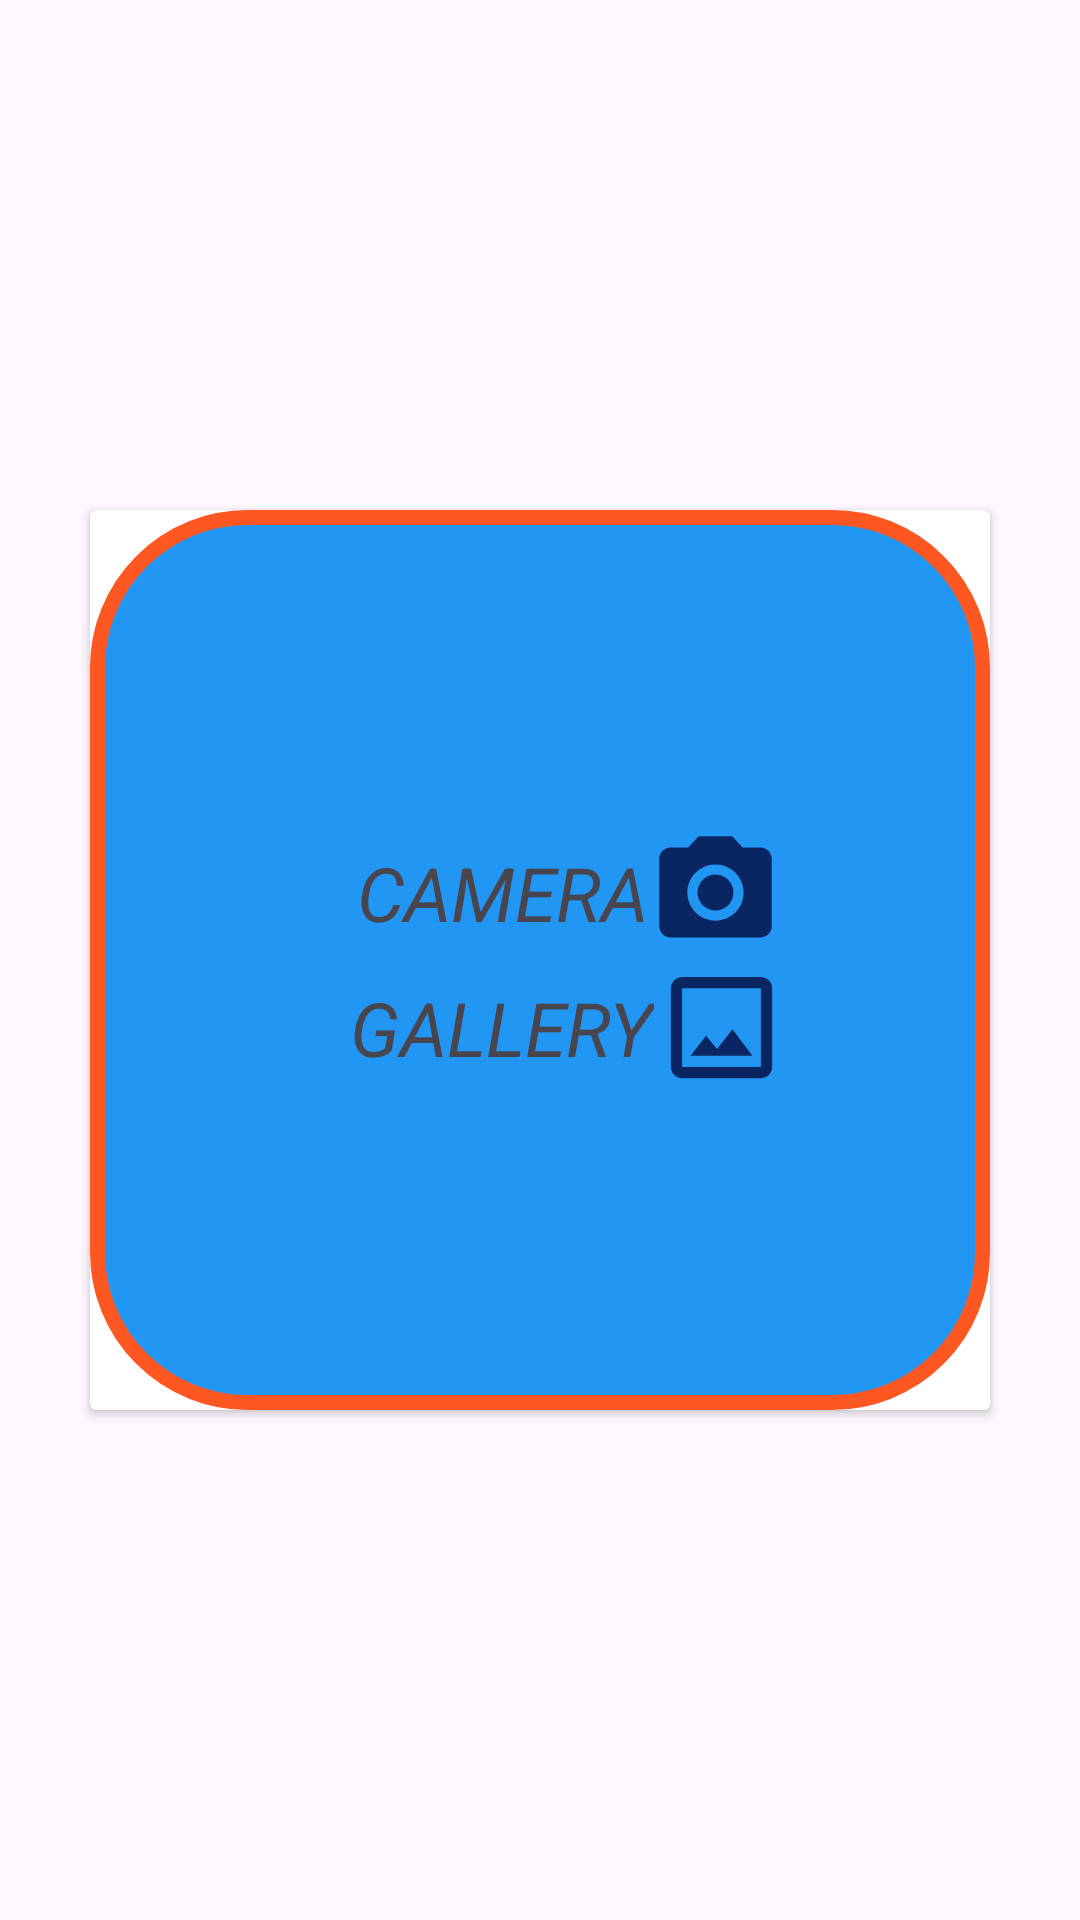

Icon bounding boxes for this 1080x1920 phone screenshot, format (x1, y1, x2, y2):
crop original: (671, 977, 772, 1079)
